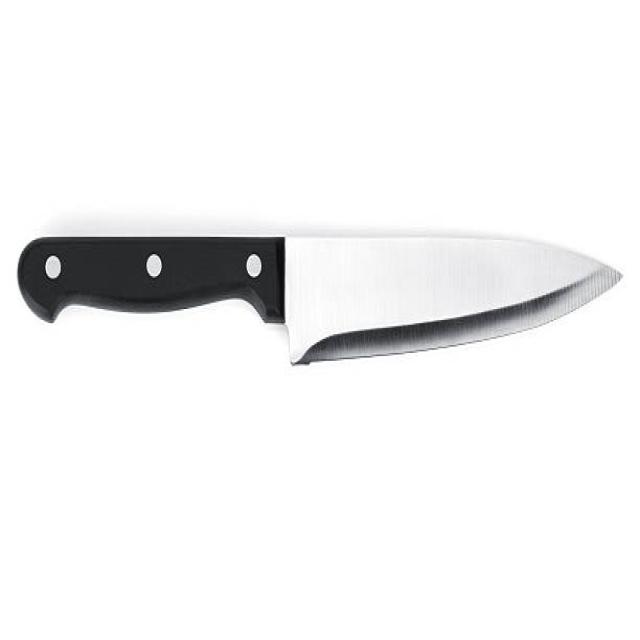knife: (11, 214, 627, 388)
